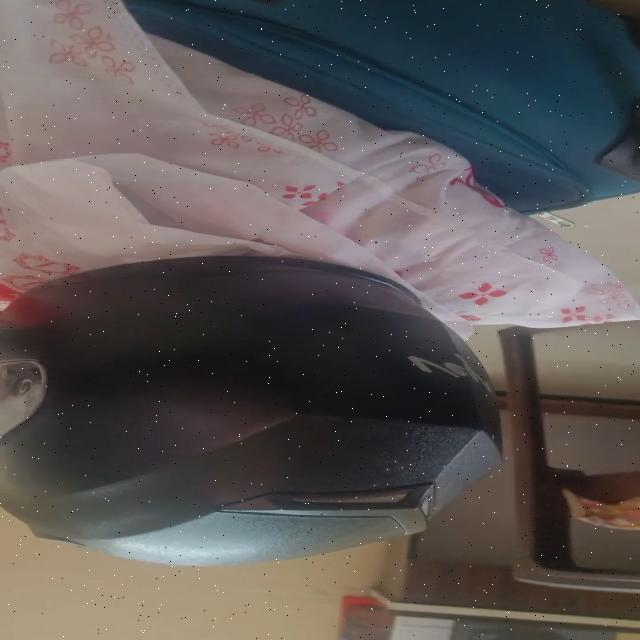Helmet: (0, 256, 501, 566)
